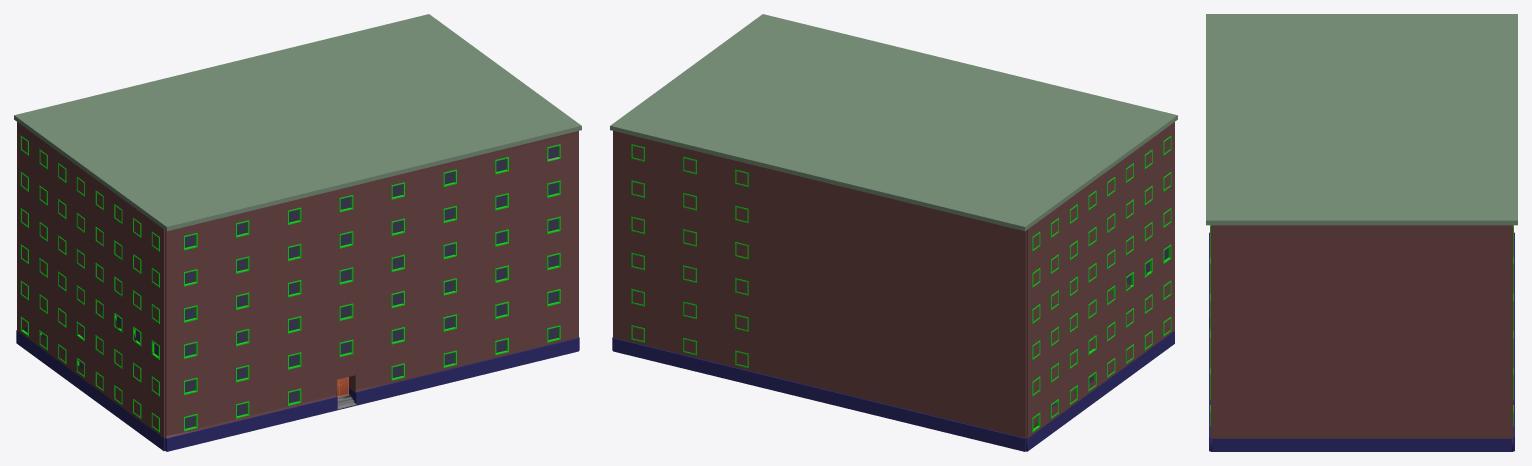
File: BCC40_F06_01.fbx
3 renders of one model, left to right at view 1: azimuth 30°, elevation 25°; view 2: azimuth 150°, elevation 25°; view 3: azimuth 270°, elevation 25°, orthographic. The views are drawn at different scales.
Visible parts, largest first — view 1: BCC40_F06_01; view 2: BCC40_F06_01; view 3: BCC40_F06_01.
Boxes of the visible parts, x1=… form: BCC40_F06_01: x1=14, y1=14, x2=581, y2=451; BCC40_F06_01: x1=610, y1=14, x2=1177, y2=451; BCC40_F06_01: x1=1206, y1=14, x2=1517, y2=451.
Bounding box in the file's own units: 4005 × 2085 × 2550.
